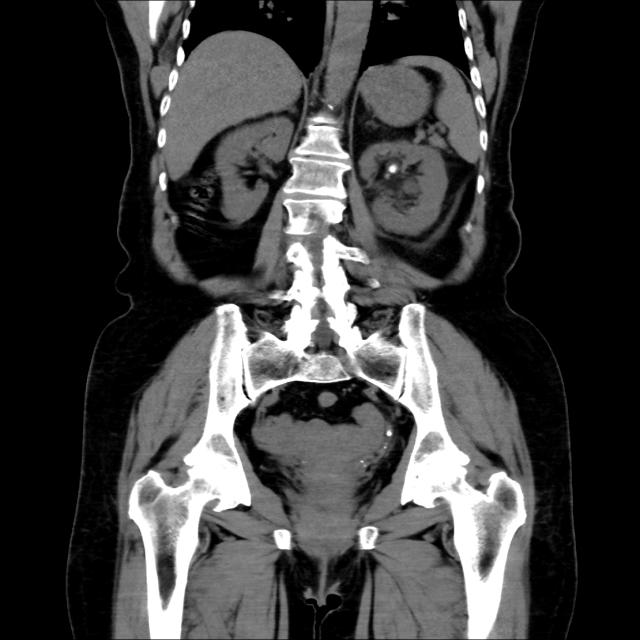kidneystone: (388, 164, 400, 174)
